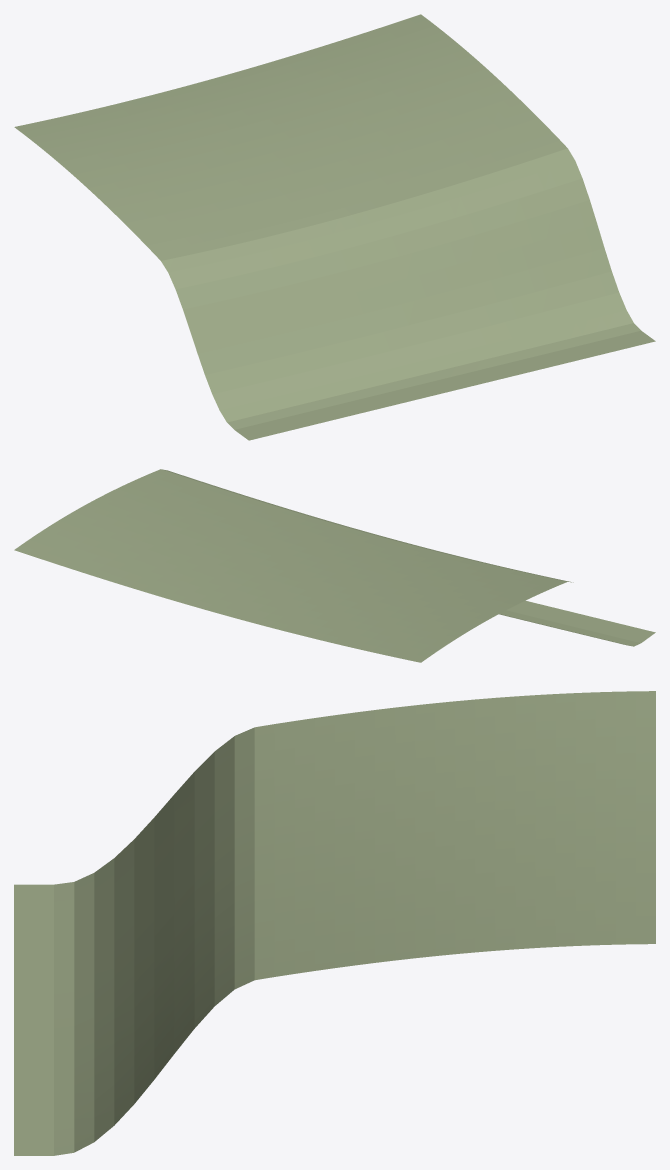
The model's file is valley-13-1.glb.
The picture shows the model from 3 angles, top to bottom: view 1: azimuth 30°, elevation 25°; view 2: azimuth 150°, elevation 25°; view 3: azimuth 270°, elevation 25°; orthographic projection. The views are drawn at different scales.
Visible parts, largest first — view 1: valley-13-1; view 2: valley-13-1; view 3: valley-13-1.
Boxes of the visible parts, bbox=[...] form: valley-13-1: bbox=[14, 14, 655, 440]; valley-13-1: bbox=[14, 469, 655, 662]; valley-13-1: bbox=[14, 691, 655, 1155].
Size of the model in its own units: 256 by 93.2 by 256.
